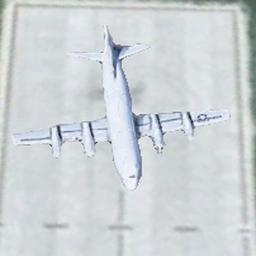Airplane: (15, 21, 232, 208)
